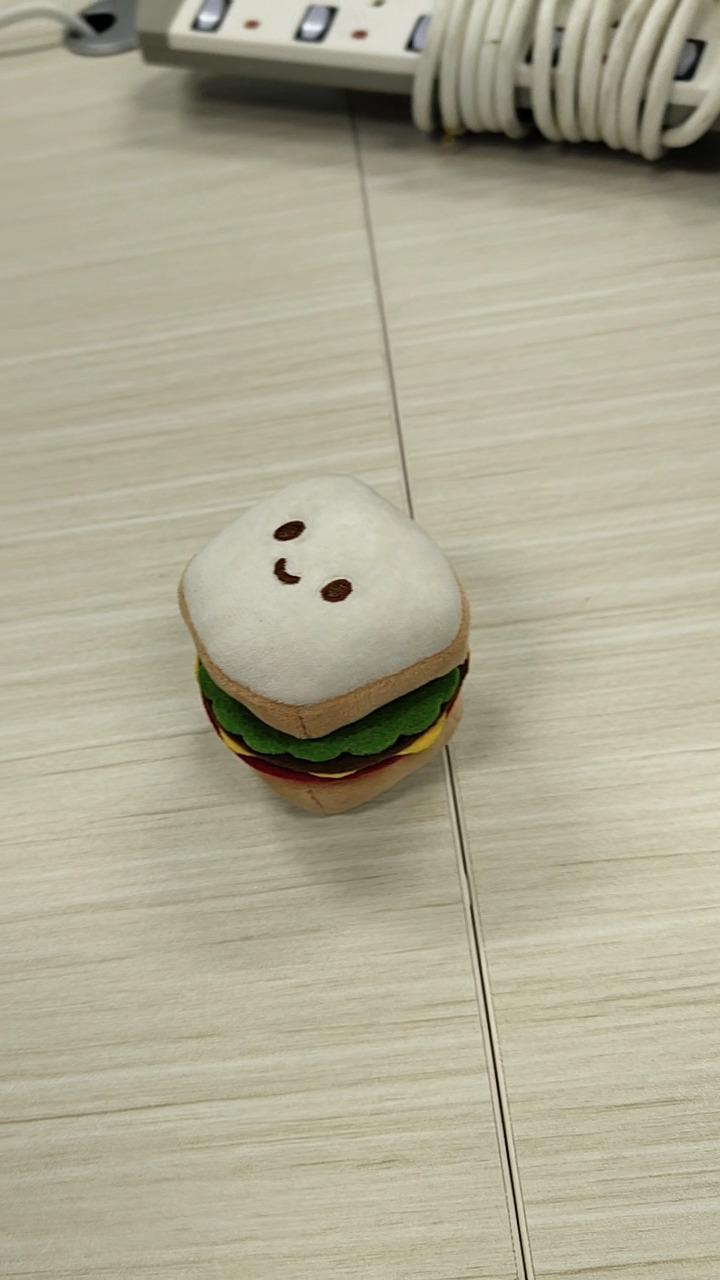objects: (176, 470, 471, 816)
